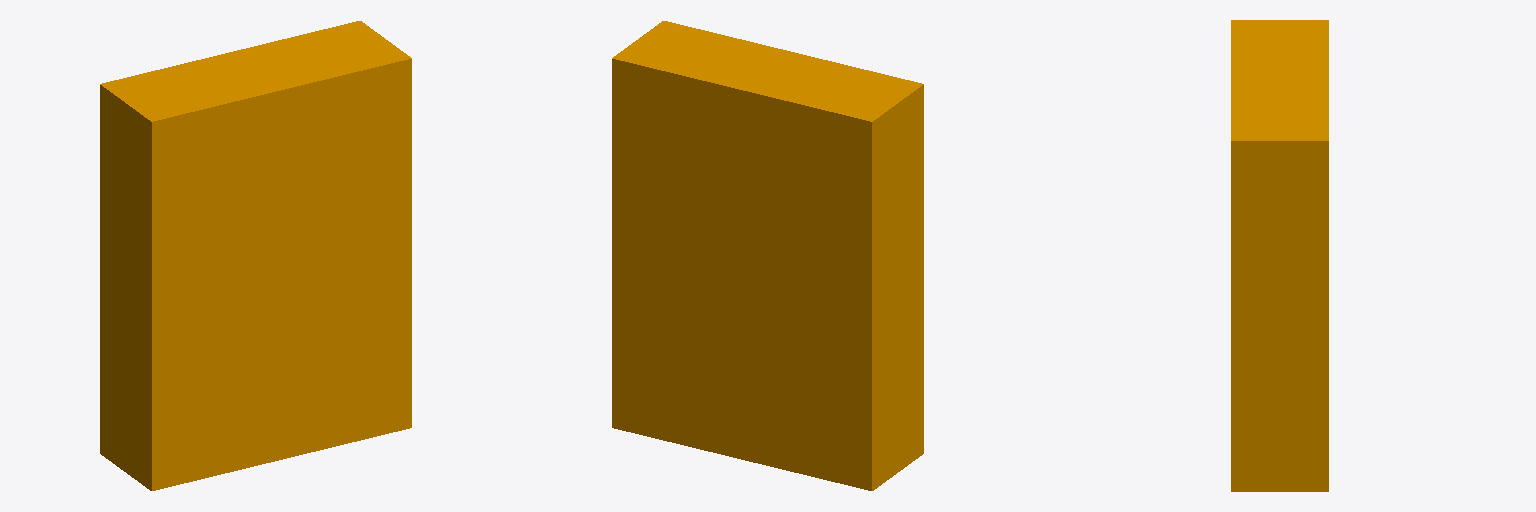
URDF robot description (tomaten_suppe):
<?xml version="1.0" ?> 
<robot name="tomaten_suppe">
  <link name="base_link">
  <inertial>
    <mass value="1.0" />
    <origin xyz="0 0 0.0" />
    <inertia  ixx="1.0" ixy="0.0"  ixz="0.0"  iyy="1.0"  iyz="0.0"  izz="1.0" />
  </inertial>
  <visual>
   <origin xyz="0 0 0.0" rpy="0 0 0" />
   <geometry>
     <mesh filename="package://cob_gazebo_objects/Media/models/tomato_soup.dae"/>
   </geometry>
  </visual>
  <collision>
   <origin xyz="0 0 0.063" rpy="0 0 0" />
   <geometry>
     <box size="0.093 0.032 0.126" />
   </geometry>
  </collision>     
  </link>
<gazebo>
	<static>true</static>
</gazebo>
</robot>

--- Render facts (derived) ---
3 views of the same robot in one strip: view 1: azimuth 30°, elevation 25°; view 2: azimuth 150°, elevation 25°; view 3: azimuth 270°, elevation 25° (orthographic).
Robot: tomaten_suppe — 1 links, 0 joints (none); root link base_link; default pose: all joints at 0.
Visible links, largest first — view 1: base_link; view 2: base_link; view 3: base_link.
Boxes of the visible links, x1=… form: base_link: x1=100, y1=21, x2=411, y2=490; base_link: x1=612, y1=21, x2=923, y2=490; base_link: x1=1231, y1=20, x2=1328, y2=491.
Size in the robot's own frame: 0.0009 by 0.0003 by 0.0013 metres.
1 mesh visuals loaded from 1 distinct referenced files (1 Collada DAE).